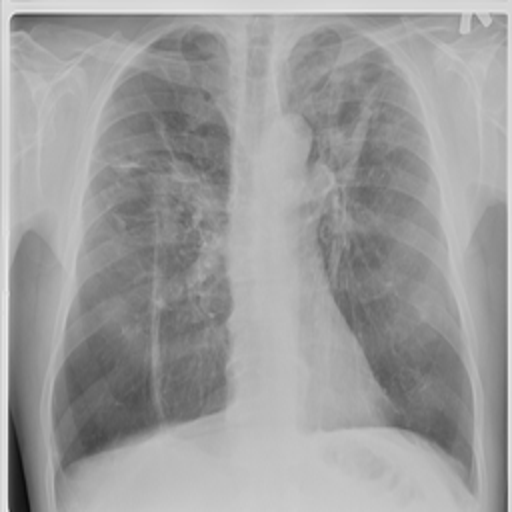TB: (102, 126, 204, 335), (311, 40, 409, 236)
